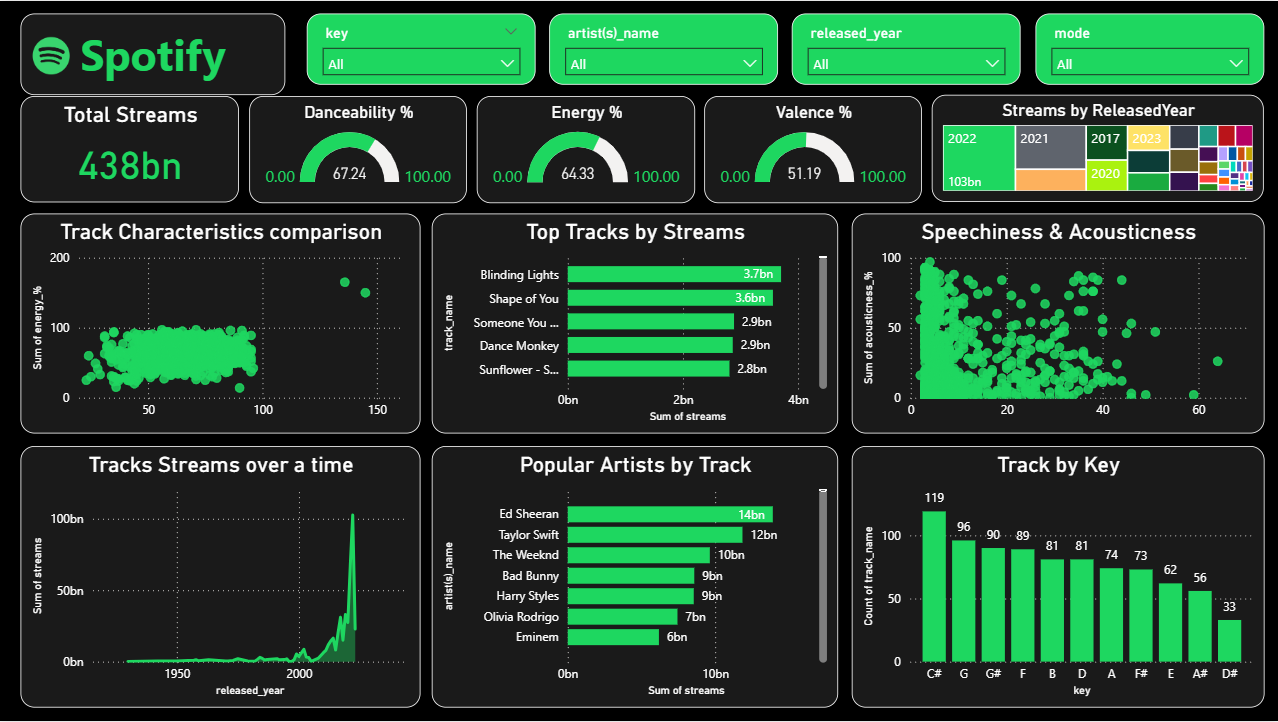

Layout of this report page (visuals, bound fields, positions):
{"tool":"powerbi","page":{"name":"Page 1","canvas":[1280,720],"ordinal":0},"visuals":[{"type":"slicer","fields":{"Values":["spotify-2023.key"]},"box":[308.3,12,229.2,71.4],"z":0},{"type":"slicer","fields":{"Values":["spotify-2023.released_year"]},"box":[794.1,12,229.2,71.4],"z":1000},{"type":"slicer","fields":{"Values":["spotify-2023.artist(s)_name"]},"box":[551.2,12,229.2,71.4],"z":2000},{"type":"slicer","fields":{"Values":["spotify-2023.mode"]},"box":[1036.9,12,229.2,71.4],"z":3000},{"type":"card","title":"Total Streams","fields":{"Values":["Sum(spotify-2023.streams)"]},"box":[22.8,94.5,218.8,106.2],"z":4000},{"type":"gauge","title":"Danceability %","fields":{"Y":["Avg(spotify-2023.danceability_%)"]},"box":[251.5,94.5,217.5,107.5],"z":5000},{"type":"gauge","title":"Energy %","fields":{"Y":["Avg(spotify-2023.energy_%)"]},"box":[479,94.5,218.8,107.5],"z":6000},{"type":"gauge","title":"Valence %","fields":{"Y":["Avg(spotify-2023.valence_%)"]},"box":[706.5,94.5,217.5,107.5],"z":7000},{"type":"treemap","title":"Streams by ReleasedYear","fields":{"Group":["spotify-2023.released_year"],"Values":["Sum(spotify-2023.streams)"]},"box":[934.3,94.4,331.8,107.1],"z":8000},{"type":"scatterChart","title":"Track Characteristics comparison","fields":{"Category":["spotify-2023.streams"],"X":["Sum(spotify-2023.danceability_%)"],"Y":["Sum(spotify-2023.energy_%)"]},"box":[22.5,212.5,400,220],"z":9000},{"type":"clusteredBarChart","title":"Top Tracks by Streams","fields":{"Category":["spotify-2023.track_name"],"Y":["Sum(spotify-2023.streams)"]},"box":[433.8,212.5,406.2,220],"z":10000},{"type":"scatterChart","title":"Speechiness & Acousticness","fields":{"Category":["spotify-2023.streams"],"X":["Sum(spotify-2023.speechiness_%)"],"Y":["spotify-2023.acousticness_%"]},"box":[853.8,212.5,412.5,220],"z":11000},{"type":"areaChart","title":"Tracks Streams over a time","fields":{"Category":["spotify-2023.released_year"],"Y":["Sum(spotify-2023.streams)"]},"box":[22.5,445,400,261.2],"z":12000},{"type":"clusteredBarChart","title":"Popular Artists by Track","fields":{"Category":["spotify-2023.artist(s)_name"],"Y":["Sum(spotify-2023.streams)"]},"box":[433.8,445,406.2,261.2],"z":13000},{"type":"clusteredColumnChart","title":"Track by Key","fields":{"Category":["spotify-2023.key"],"Y":["CountNonNull(spotify-2023.track_name)"]},"box":[853.8,445,412.5,261.2],"z":14000},{"type":"image","box":[8.8,13.8,88.8,81.2],"z":15000},{"type":"textbox","box":[22.5,12.5,265,81.2],"z":16000}]}

Visuals, with their boxes in screenshot pixels (x1, y1, x2, y2), scaled from the page's 1280x720 canvas onto the 1278x722 screenshot:
slicer - spotify-2023.key: (308, 12, 537, 84)
slicer - spotify-2023.released_year: (793, 12, 1022, 84)
slicer - spotify-2023.artist(s)_name: (550, 12, 779, 84)
slicer - spotify-2023.mode: (1035, 12, 1264, 84)
"Total Streams" card: (23, 95, 241, 201)
"Danceability %" gauge: (251, 95, 468, 203)
"Energy %" gauge: (478, 95, 697, 203)
"Valence %" gauge: (705, 95, 923, 203)
"Streams by ReleasedYear" treemap: (933, 95, 1264, 202)
"Track Characteristics comparison" scatterChart: (22, 213, 422, 434)
"Top Tracks by Streams" clusteredBarChart: (433, 213, 839, 434)
"Speechiness & Acousticness" scatterChart: (852, 213, 1264, 434)
"Tracks Streams over a time" areaChart: (22, 446, 422, 708)
"Popular Artists by Track" clusteredBarChart: (433, 446, 839, 708)
"Track by Key" clusteredColumnChart: (852, 446, 1264, 708)
image: (9, 14, 97, 95)
textbox: (22, 13, 287, 94)
